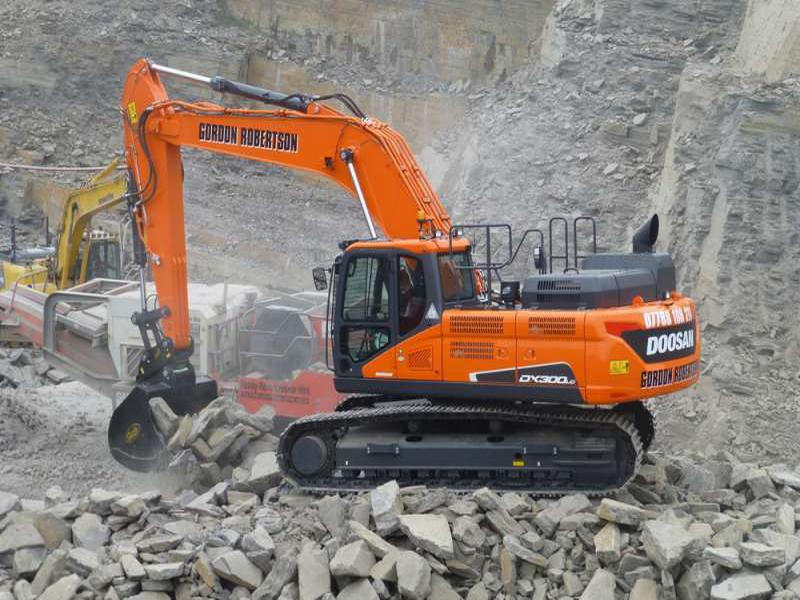shovel: (103, 55, 712, 504)
